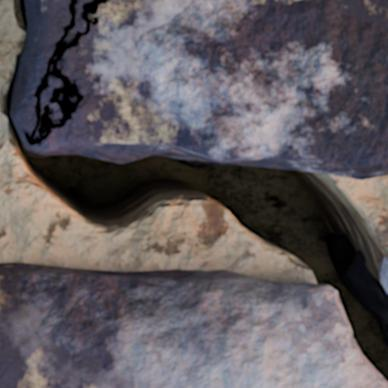brick: (30, 0, 387, 178), (11, 0, 69, 145), (66, 0, 90, 40)
broken_brick: (0, 262, 385, 387), (380, 256, 387, 289)
crack: (2, 0, 387, 387), (16, 0, 27, 29)
